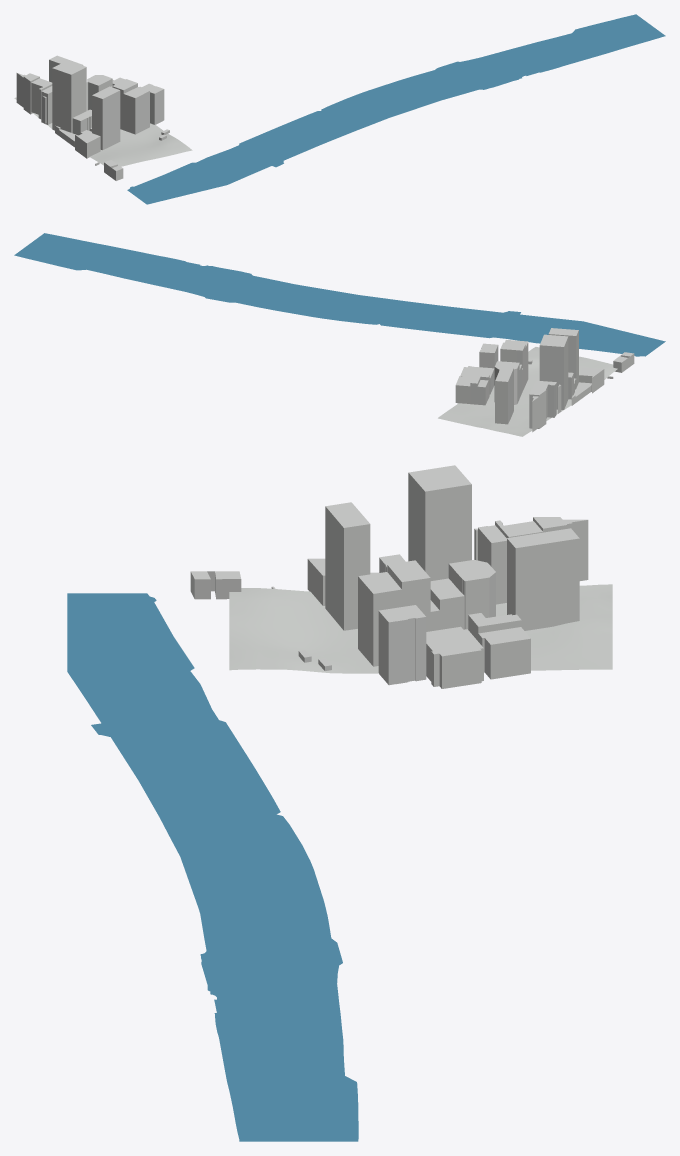
Rendered from tile-c00-r03-lod2-analysis.glb.
The picture shows the model from 3 angles, top to bottom: view 1: azimuth 30°, elevation 25°; view 2: azimuth 150°, elevation 25°; view 3: azimuth 270°, elevation 25°; orthographic projection. The views are drawn at different scales.
Visible parts, largest first — view 1: tile-c00-r03-lod2-analysis; view 2: tile-c00-r03-lod2-analysis; view 3: tile-c00-r03-lod2-analysis.
Boxes of the visible parts, x1,y1,x2,y2 form: tile-c00-r03-lod2-analysis: (14, 14, 665, 204); tile-c00-r03-lod2-analysis: (14, 233, 665, 436); tile-c00-r03-lod2-analysis: (67, 465, 612, 1141).
Size of the model in its own units: 880 by 97.4 by 370.
